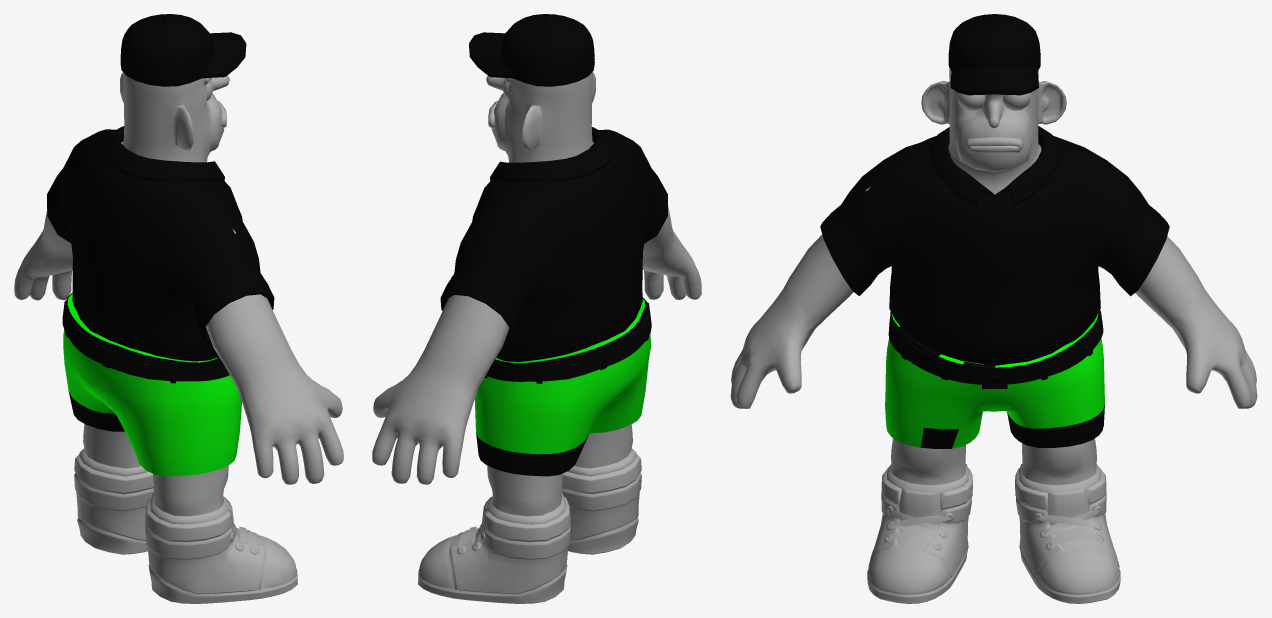
The model's file is jimmk3.fbx.
3 views of the same model, side by side, from view 1: azimuth 30°, elevation 25°; view 2: azimuth 150°, elevation 25°; view 3: azimuth 270°, elevation 25° (orthographic).
Parts seen in each view (by area): view 1: shorts1, pSphere4; view 2: shorts1, pSphere4; view 3: shorts1, pSphere4.
Part boxes in pixels (bbox=[...]): shorts1: bbox=[47, 14, 274, 476]; pSphere4: bbox=[14, 72, 343, 603]; shorts1: bbox=[440, 14, 667, 476]; pSphere4: bbox=[372, 71, 701, 603]; shorts1: bbox=[820, 14, 1169, 448]; pSphere4: bbox=[730, 68, 1257, 603].
Bounding box in the file's own units: 4.98 × 15.39 × 13.44.
